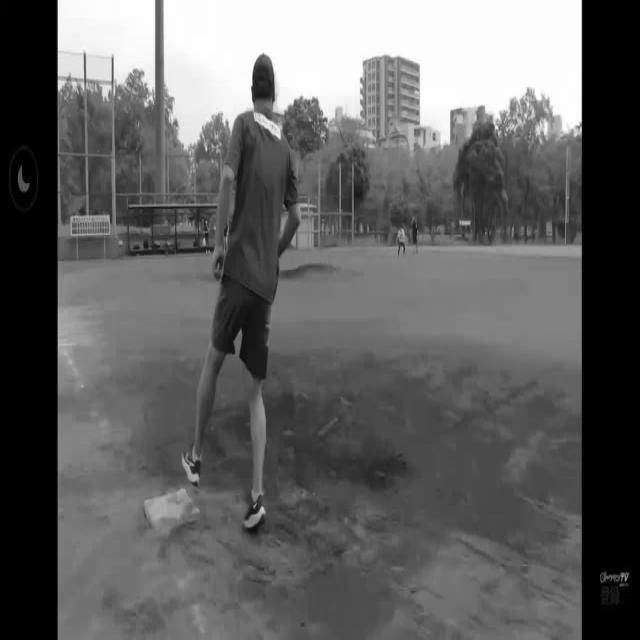base: (147, 488, 204, 531)
shoe: (240, 499, 272, 538), (181, 443, 204, 488)
